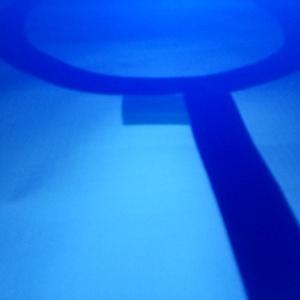bottom_left: (121, 78, 230, 125)
